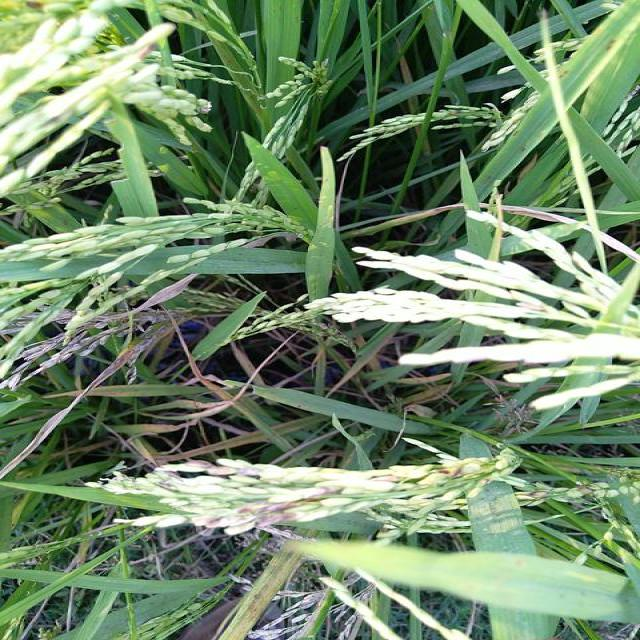Panicle Blight: (237, 503, 297, 527), (185, 460, 259, 477), (289, 487, 344, 503), (431, 466, 467, 479), (201, 518, 224, 529), (531, 490, 549, 499), (576, 485, 591, 493)
